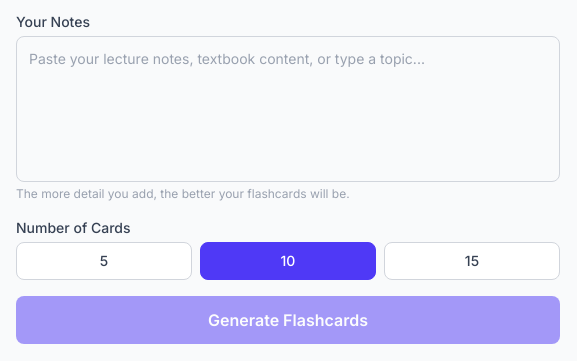
InputPanel › generate button enables when text is entered
The image size is (577, 361).
Replace the text in the text box with "Some notes here" at (288, 109), box [16,36,560,182]
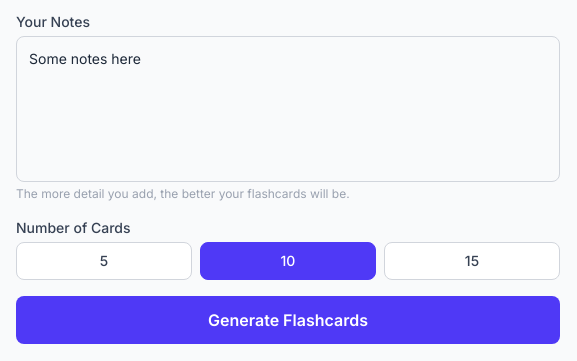
Result: the button "Generate Flashcards" is enabled at [16,296,560,344]
